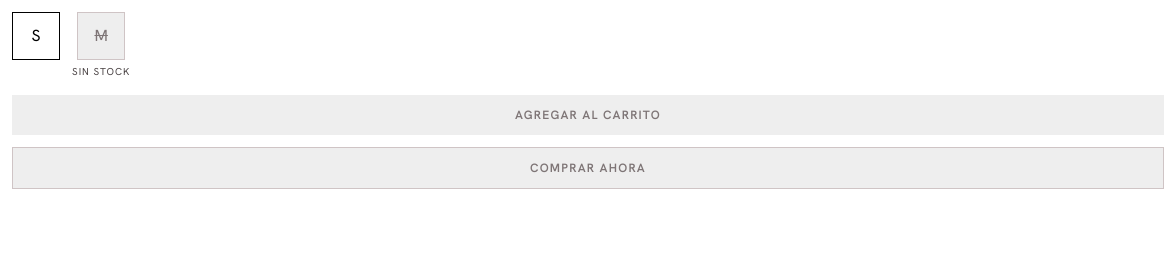
Test: SizeSelector › disables add to cart with the named at-cap reason when inCartQty already reaches available stock
The image size is (1176, 270).
Click the button "S".
click(36, 36)  # box x1=12 y1=12 x2=60 y2=60
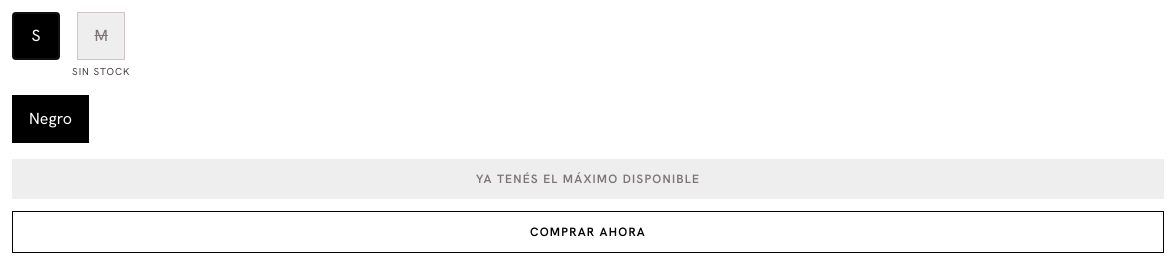
Expected: the button "Ya tenés el máximo disponible" is disabled, x1=12 y1=159 x2=1164 y2=199
Now the button "Agregar al carrito" is gone
